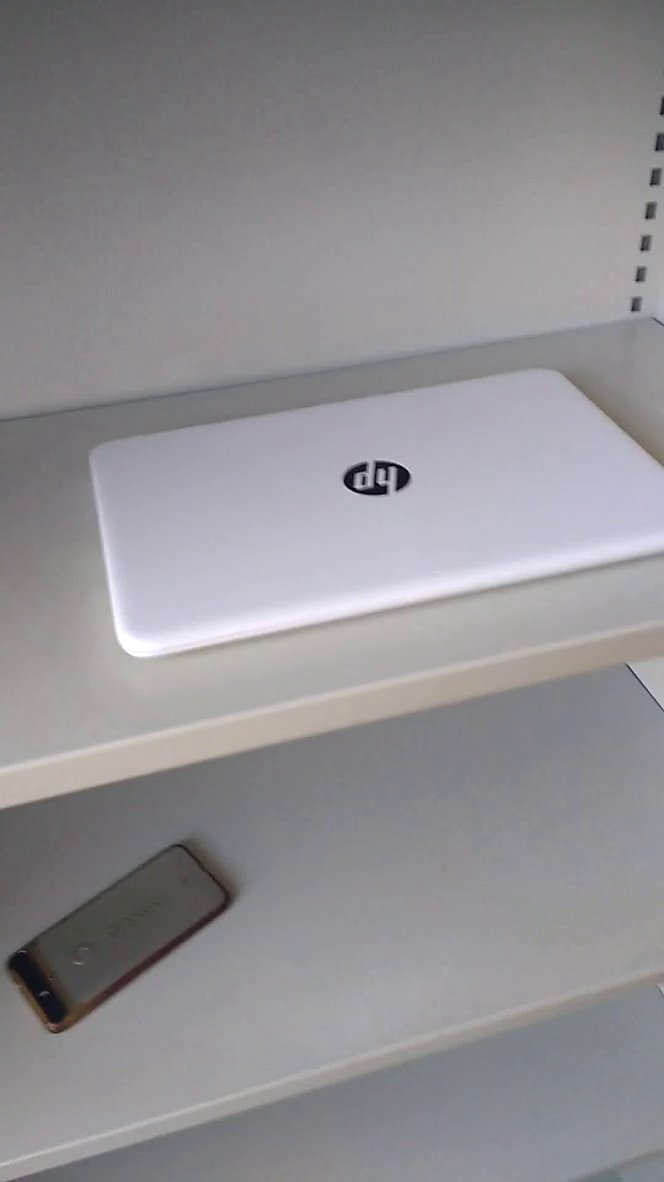laptop: (70, 351, 664, 686)
phone: (3, 824, 248, 1042)
